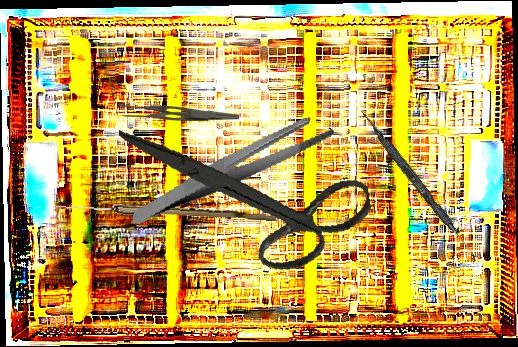Dressing Forceps: (119, 113, 345, 225), (118, 100, 240, 123)
Iris Scissors: (118, 91, 379, 294)
Spatula Surgical: (355, 108, 483, 263)
Surgical Spoon: (55, 202, 277, 221)
